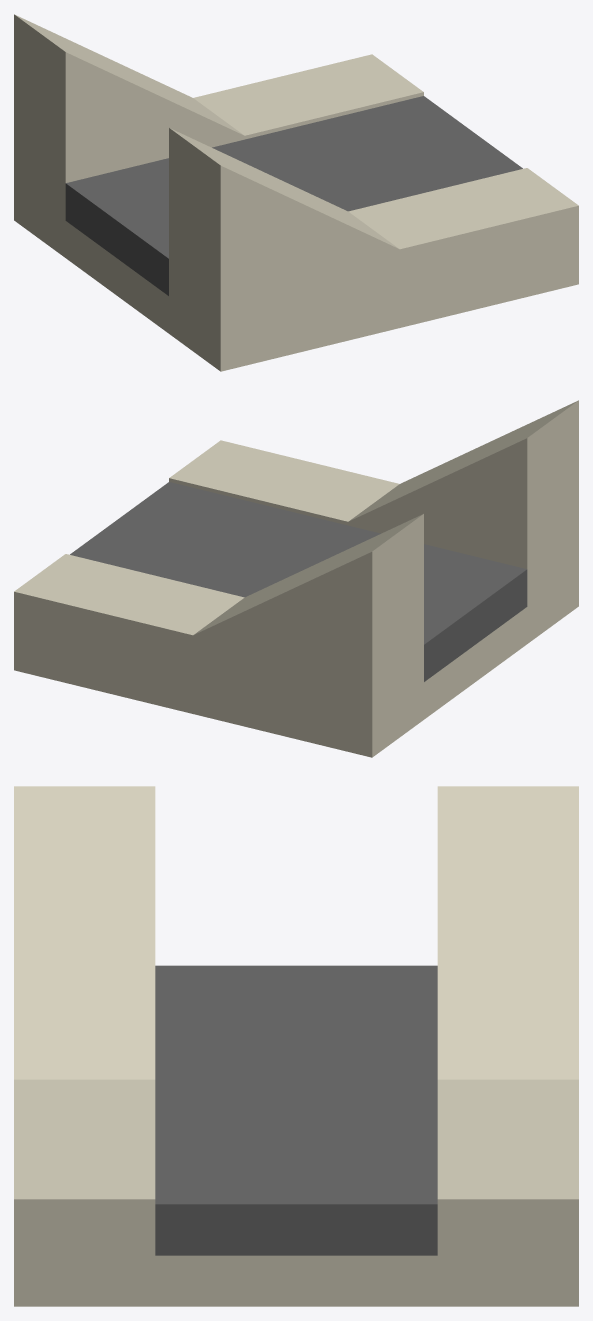
Rendered from roadTile_257.obj.
3 renders of one model, top to bottom at view 1: azimuth 30°, elevation 25°; view 2: azimuth 150°, elevation 25°; view 3: azimuth 270°, elevation 25°, orthographic. The views are drawn at different scales.
Parts seen in each view (by area): view 1: Mesh1_Group1_Model.256; view 2: Mesh1_Group1_Model.256; view 3: Mesh1_Group1_Model.256.
Part boxes in pixels (left/top/right/bottom): Mesh1_Group1_Model.256: left=14, top=14, right=578, bottom=371; Mesh1_Group1_Model.256: left=14, top=400, right=578, bottom=757; Mesh1_Group1_Model.256: left=14, top=786, right=578, bottom=1306.
Bounding box in the file's own units: 3 × 1.65 × 3.
